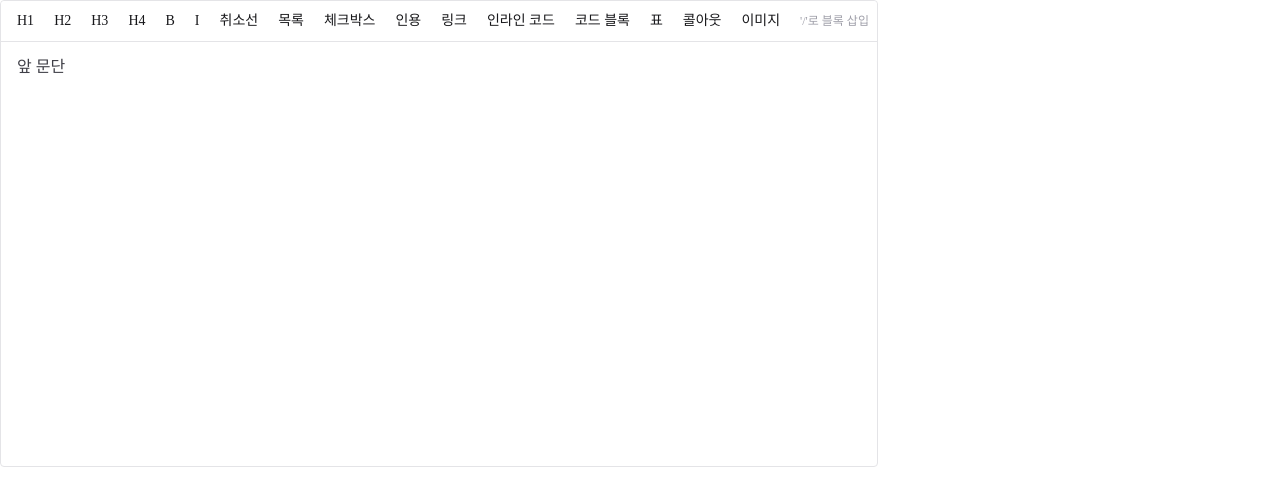
Test case: 툴바의 '표' 버튼 › 삽입하면 커서가 새 표 안에 놓여 표 편집 툴바가 바로 뜬다
The image size is (1280, 484).
Expected: the field labelled "앞 문단" is shown, [17,58,65,75]
Click the button "표" at x=656, y=21, box [642,7,671,35]
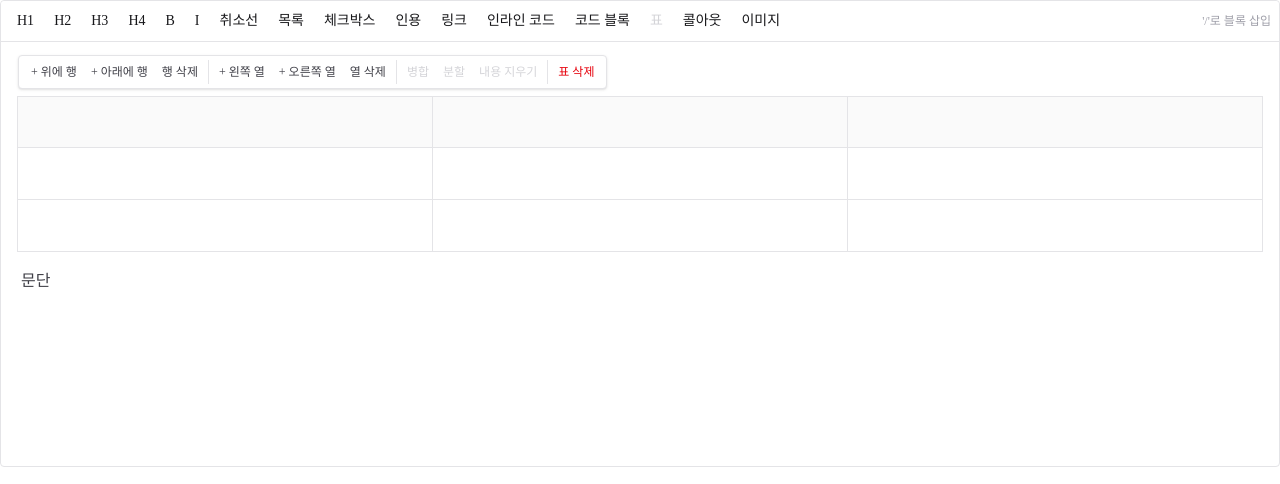
Expected: the element named "표 편집" is shown, [18,55,607,89]
